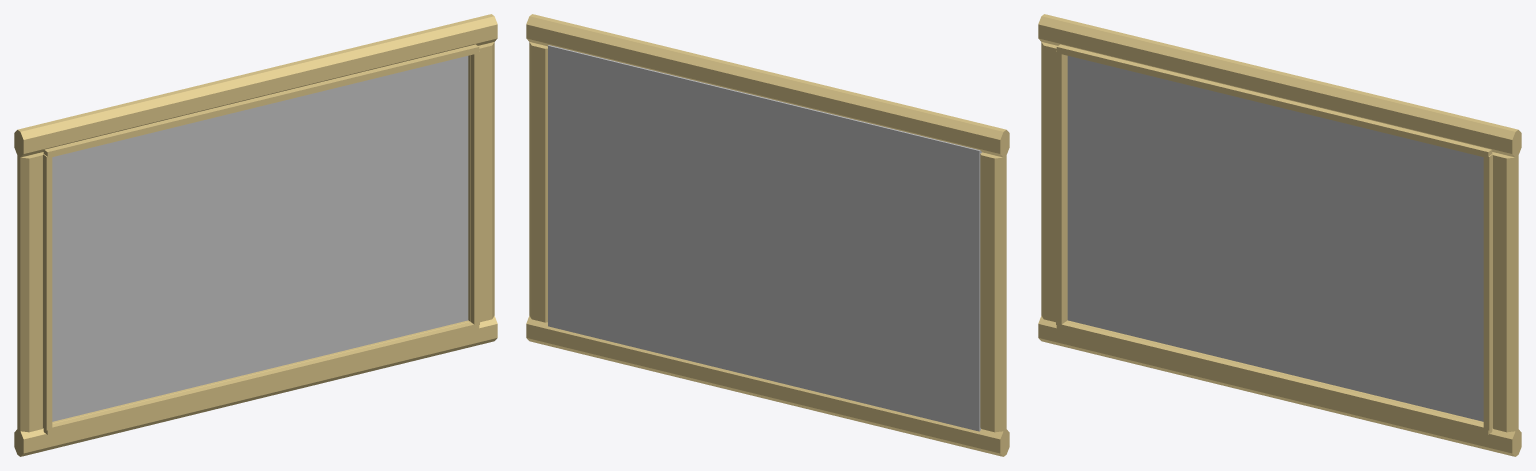
The model's file is clutter_painting_gathering.glb.
The picture shows the model from 3 angles, left to right: view 1: azimuth 30°, elevation 25°; view 2: azimuth 150°, elevation 25°; view 3: azimuth 330°, elevation 25°; orthographic projection.
Parts seen in each view (by area): view 1: clutter_painting_gathering; view 2: clutter_painting_gathering; view 3: clutter_painting_gathering.
Part boxes in pixels (left/top/right/bottom): clutter_painting_gathering: left=14, top=14, right=497, bottom=456; clutter_painting_gathering: left=526, top=14, right=1009, bottom=456; clutter_painting_gathering: left=1038, top=14, right=1521, bottom=456.
Bounding box in the file's own units: 1.45 × 0.95 × 0.064.
